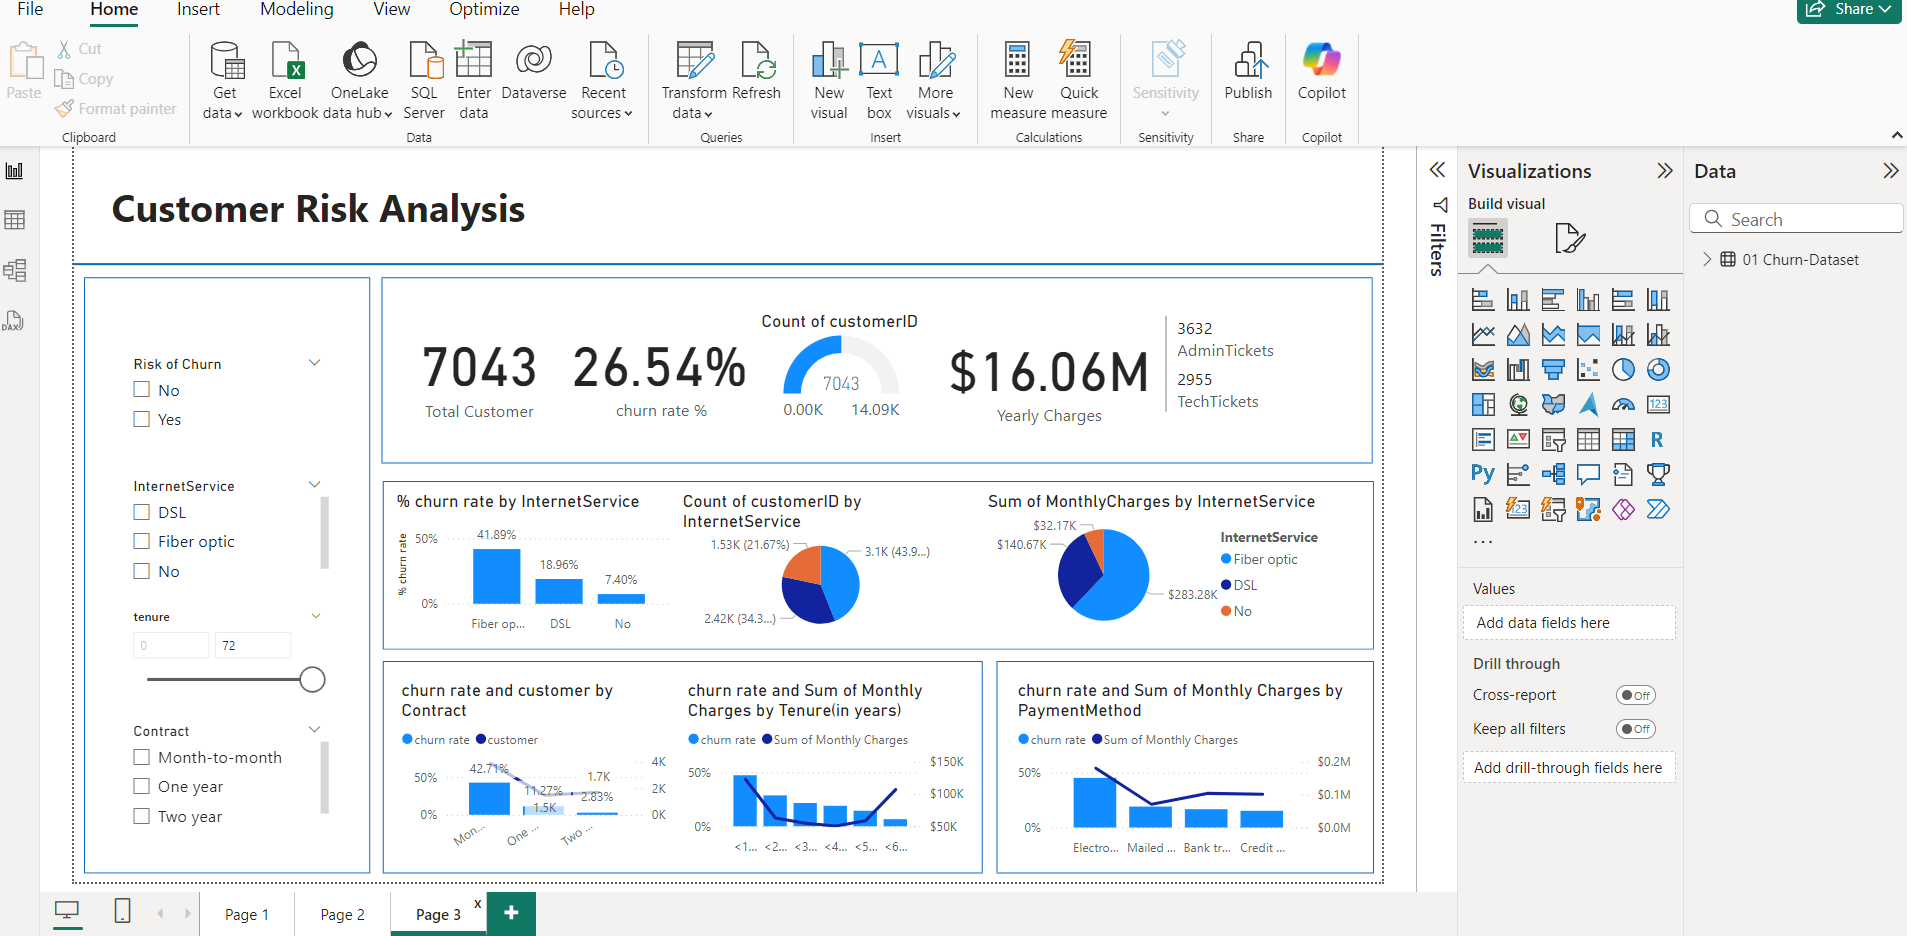

The dashboard page shown, as its layout file describes it:
{"tool":"powerbi","page":{"name":"Page 3","canvas":[1280,720],"ordinal":2},"visuals":[{"type":"shape","box":[9.8,128.4,280,583.3],"z":0},{"type":"shape","box":[300.8,128.4,969.7,182.2],"z":1},{"type":"shape","box":[302,327.7,969.7,165.1],"z":2},{"type":"shape","box":[302,503.8,587,207.9],"z":3},{"type":"shape","box":[902.5,503.8,369.3,207.9],"z":4},{"type":"slicer","fields":{"Values":["01 Churn-Dataset.Churn"]},"box":[45.2,199.3,209.1,111.3],"z":5},{"type":"slicer","fields":{"Values":["01 Churn-Dataset.InternetService"]},"box":[45.2,319.2,209.1,111.3],"z":6},{"type":"slicer","fields":{"Values":["01 Churn-Dataset.tenure"]},"box":[45.2,447.6,209.1,111.3],"z":7},{"type":"slicer","fields":{"Values":["01 Churn-Dataset.Contract"]},"box":[45.2,558.8,209.1,111.3],"z":8},{"type":"card","fields":{"Values":["CountNonNull(01 Churn-Dataset.customerID)"]},"box":[315.5,149.2,162.6,141.8],"z":9},{"type":"card","fields":{"Values":["01 Churn-Dataset.% churn rate"]},"box":[478.1,152.9,189.5,133.3],"z":10},{"type":"card","fields":{"Values":["Sum(01 Churn-Dataset.TotalCharges)"]},"box":[846.2,157.7,216.4,133.3],"z":11},{"type":"multiRowCard","fields":{"Values":["Sum(01 Churn-Dataset.numAdminTickets)","Sum(01 Churn-Dataset.numTechTickets)"]},"box":[1062.6,161.4,201.8,117.4],"z":12},{"type":"columnChart","fields":{"Y":["01 Churn-Dataset.% churn rate"],"Category":["01 Churn-Dataset.InternetService"]},"box":[310.6,337.5,280,145.5],"z":13},{"type":"pieChart","fields":{"Category":["01 Churn-Dataset.InternetService"],"Y":["CountNonNull(01 Churn-Dataset.customerID)"]},"box":[590.6,337.5,280,145.5],"z":14},{"type":"pieChart","fields":{"Category":["01 Churn-Dataset.InternetService"],"Y":["Sum(01 Churn-Dataset.MonthlyCharges)"]},"box":[889,337.5,347.3,145.5],"z":15},{"type":"lineStackedColumnComboChart","fields":{"Y":["01 Churn-Dataset.% churn rate"],"Y2":["CountNonNull(01 Churn-Dataset.customerID)"],"Category":["01 Churn-Dataset.Contract"]},"box":[315.5,522.1,269,177.3],"z":16},{"type":"lineStackedColumnComboChart","fields":{"Y":["01 Churn-Dataset.% churn rate"],"Y2":["Sum(01 Churn-Dataset.MonthlyCharges)"],"Category":["01 Churn-Dataset.Tenure(in years)"]},"box":[595.5,522.1,280,178.5],"z":17},{"type":"lineStackedColumnComboChart","fields":{"Y":["01 Churn-Dataset.% churn rate"],"Y2":["Sum(01 Churn-Dataset.MonthlyCharges)"],"Category":["01 Churn-Dataset.PaymentMethod"]},"box":[918.3,522.1,336.3,179.8],"z":18},{"type":"textbox","box":[31.8,29.3,704.4,67.3],"z":19},{"type":"shape","box":[0,40.4,1280.3,150.4],"z":20},{"type":"gauge","fields":{"Y":["CountNonNull(01 Churn-Dataset.customerID)"]},"box":[667.7,161.4,166.3,117.4],"z":21}]}

Visuals, with their boxes on the page's 1280x720 design canvas (x1, y1, x2, y2). These are canvas units, not pixel positions in the 1907x936 screenshot, which may show the page scaled, cropped or inside an application window:
shape: x1=10, y1=128, x2=290, y2=712
shape: x1=301, y1=128, x2=1270, y2=311
shape: x1=302, y1=328, x2=1272, y2=493
shape: x1=302, y1=504, x2=889, y2=712
shape: x1=902, y1=504, x2=1272, y2=712
slicer - 01 Churn-Dataset.Churn: x1=45, y1=199, x2=254, y2=311
slicer - 01 Churn-Dataset.InternetService: x1=45, y1=319, x2=254, y2=430
slicer - 01 Churn-Dataset.tenure: x1=45, y1=448, x2=254, y2=559
slicer - 01 Churn-Dataset.Contract: x1=45, y1=559, x2=254, y2=670
card - CountNonNull(01 Churn-Dataset.customerID): x1=316, y1=149, x2=478, y2=291
card - 01 Churn-Dataset.% churn rate: x1=478, y1=153, x2=668, y2=286
card - Sum(01 Churn-Dataset.TotalCharges): x1=846, y1=158, x2=1063, y2=291
multiRowCard - Sum(01 Churn-Dataset.numAdminTickets) x Sum(01 Churn-Dataset.numTechTickets): x1=1063, y1=161, x2=1264, y2=279
columnChart - 01 Churn-Dataset.% churn rate x 01 Churn-Dataset.InternetService: x1=311, y1=338, x2=591, y2=483
pieChart - 01 Churn-Dataset.InternetService x CountNonNull(01 Churn-Dataset.customerID): x1=591, y1=338, x2=871, y2=483
pieChart - 01 Churn-Dataset.InternetService x Sum(01 Churn-Dataset.MonthlyCharges): x1=889, y1=338, x2=1236, y2=483
lineStackedColumnComboChart - 01 Churn-Dataset.% churn rate x CountNonNull(01 Churn-Dataset.customerID): x1=316, y1=522, x2=584, y2=699
lineStackedColumnComboChart - 01 Churn-Dataset.% churn rate x Sum(01 Churn-Dataset.MonthlyCharges): x1=596, y1=522, x2=876, y2=701
lineStackedColumnComboChart - 01 Churn-Dataset.% churn rate x Sum(01 Churn-Dataset.MonthlyCharges): x1=918, y1=522, x2=1255, y2=702
textbox: x1=32, y1=29, x2=736, y2=97
shape: x1=0, y1=40, x2=1280, y2=191
gauge - CountNonNull(01 Churn-Dataset.customerID): x1=668, y1=161, x2=834, y2=279
